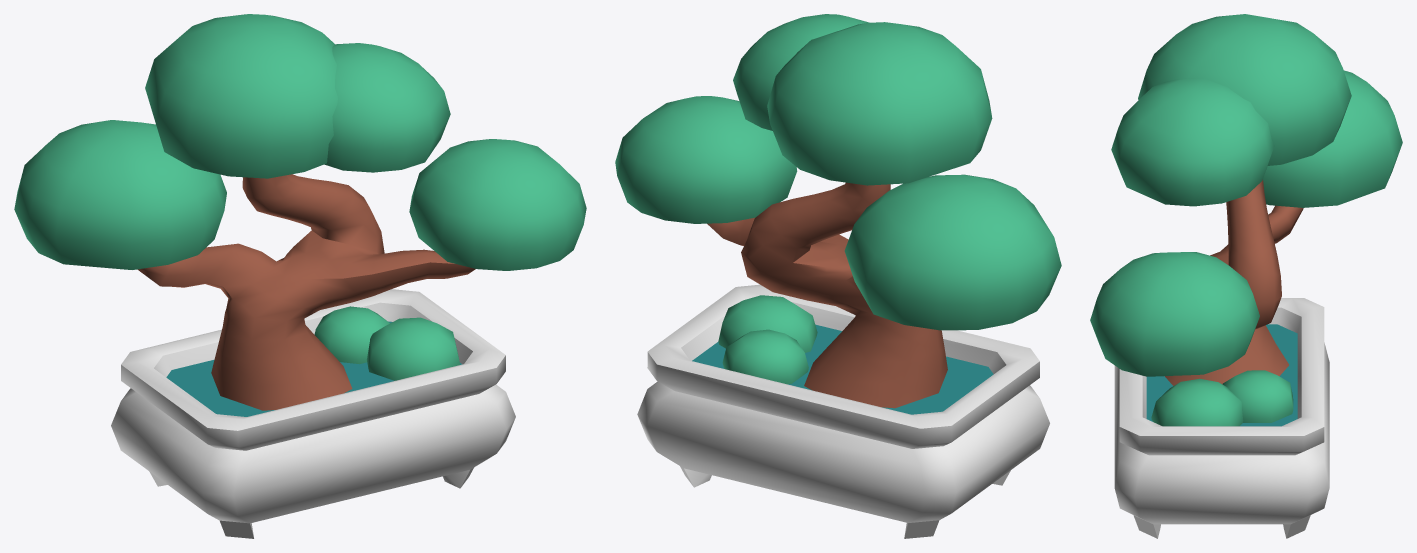
Rendered from bonsai.gltf.glb.
3 views of the same model, side by side, from view 1: azimuth 30°, elevation 25°; view 2: azimuth 150°, elevation 25°; view 3: azimuth 270°, elevation 25° (orthographic). The views are drawn at different scales.
Parts seen in each view (by area): view 1: bonsai; view 2: bonsai; view 3: bonsai.
Boxes of the visible parts, left/top/right/bottom form: bonsai: left=14, top=14, right=586, bottom=538; bonsai: left=615, top=14, right=1061, bottom=538; bonsai: left=1090, top=14, right=1402, bottom=538.
Bounding box in the file's own units: 1.36 × 1.26 × 0.8193.
